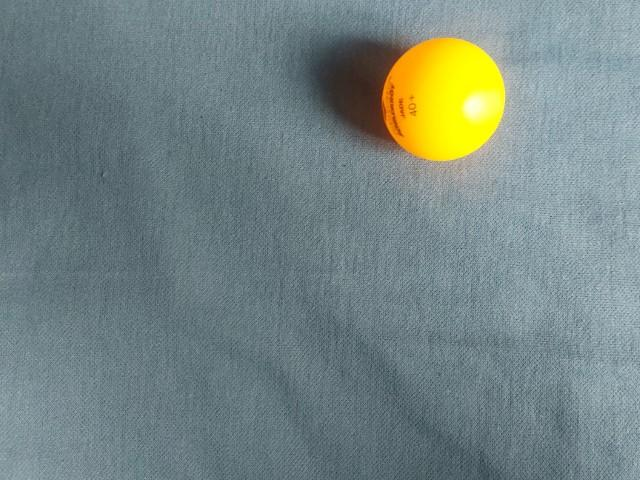oball: (127, 315, 262, 446)
